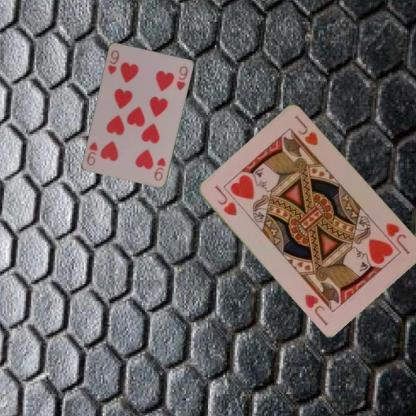9h: (105, 48, 121, 76), (152, 155, 167, 182)
Jh: (374, 220, 411, 256), (211, 182, 238, 217)
